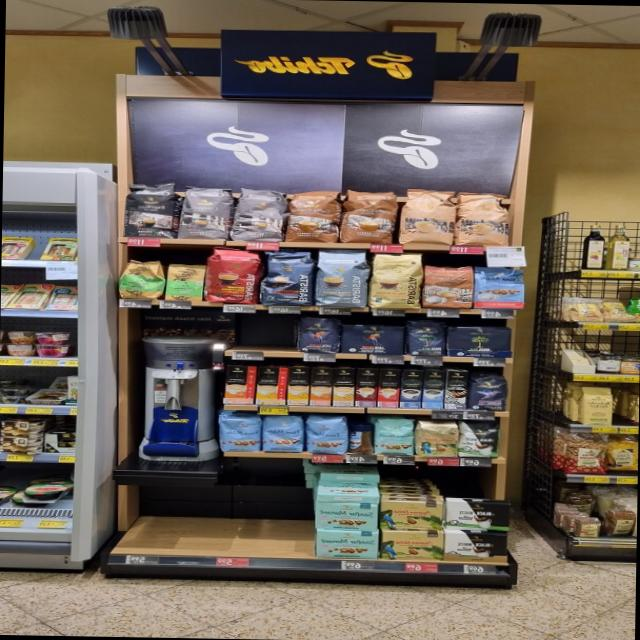Athiopien Bohne: (116, 260, 162, 300)
Athiopien Gemahlen: (164, 262, 206, 302)
BM Bohne: (406, 320, 446, 356)
BM Gemahlen: (446, 326, 510, 358)
BW Bohne: (458, 419, 502, 458)
BW Gemahlen: (442, 502, 511, 532), (443, 532, 507, 563)
Barista CB: (368, 250, 424, 310)
Barista CC: (313, 249, 369, 308)
Barista Espresso: (258, 248, 314, 307)
Barista Kolumbien: (205, 248, 263, 304)
C Fino Bohne: (469, 372, 510, 412)
CC Mild: (398, 188, 456, 246), (454, 191, 511, 248)
CC Vollmundig: (423, 263, 473, 308)
CC Vollmundig 36 Pads: (339, 189, 399, 245), (284, 187, 342, 244)
Colombia BB Bohne: (414, 420, 460, 459)
Colombia BB Gemahlen: (379, 529, 444, 560), (378, 500, 442, 530)
Empty Shelf: (110, 483, 312, 556), (227, 314, 294, 351)
Espresso Aromatisch: (229, 186, 286, 243), (176, 184, 232, 240)
Espresso Kraftig: (121, 180, 177, 238)
FM 36 Pads: (473, 266, 524, 310)
FM Bohne: (306, 414, 348, 454), (217, 414, 261, 452), (262, 413, 304, 452)
FM Instant: (348, 422, 373, 454)
LG Bohne: (296, 315, 340, 353)
LG Gemahlen: (339, 324, 404, 354)
SM Bohne: (373, 418, 415, 456)
SM Gemahlen: (316, 530, 378, 560), (314, 502, 379, 530)
Simo CCMild: (255, 366, 286, 404)
Simo CCMild bigpack: (287, 366, 309, 405)
Simo CCVollmundig: (224, 365, 256, 404)
Simo CCVollmundig bigpack: (310, 367, 332, 406)
Simo Decaff: (332, 368, 354, 406)
Simo Es Brazil: (378, 368, 401, 408)
Simo Es Caramel: (356, 368, 378, 408)
Simo Es Elegant: (444, 370, 468, 410)
Simo Es Kraft: (400, 369, 423, 408)
Simo Es Vanilla: (421, 370, 446, 408)
